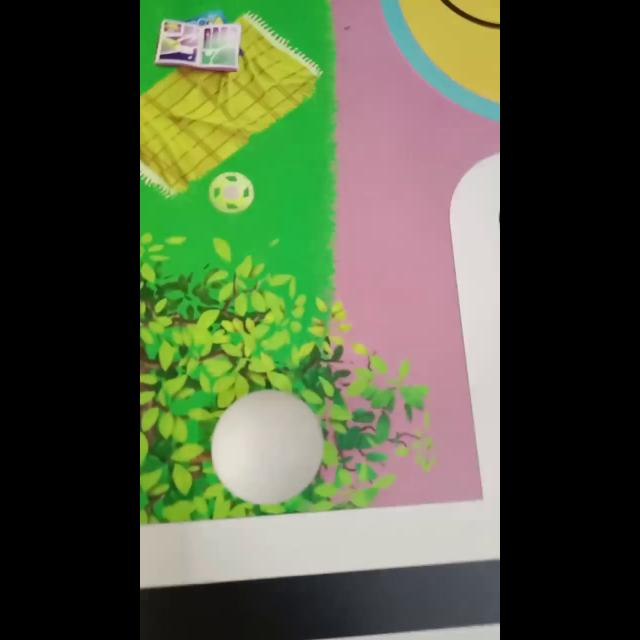white ball: (210, 388, 324, 504)
